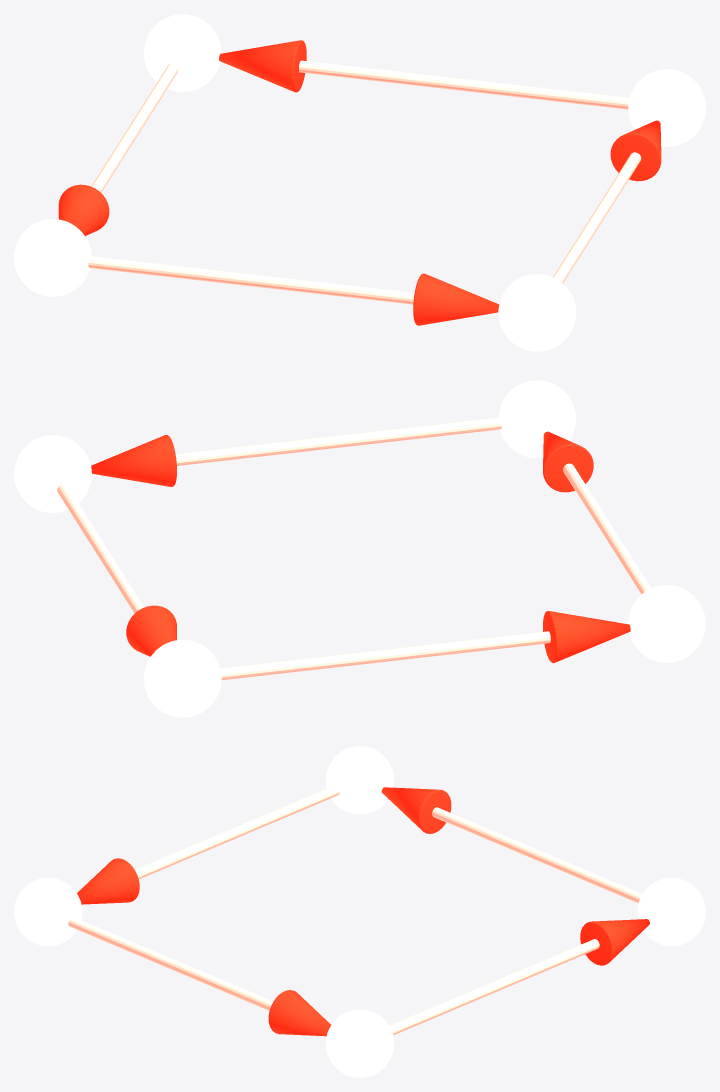
3 renders of one model, top to bottom at view 1: azimuth 30°, elevation 25°; view 2: azimuth 150°, elevation 25°; view 3: azimuth 270°, elevation 25°, orthographic. The views are drawn at different scales.
Parts seen in each view (by area): view 1: Sphere.0003, Sphere.0002, Sphere.0001, Sphere.0000, Gamma.0000, Gamma.0002, Alpha.0002, Alpha.0000, Alpha.0003, Alpha.0001, Gamma.0003, Gamma.0001; view 2: Sphere.0001, Sphere.0002, Sphere.0000, Sphere.0003, Gamma.0001, Gamma.0003, Alpha.0003, Alpha.0001, Alpha.0002, Alpha.0000, Gamma.0002, Gamma.0000; view 3: Sphere.0000, Sphere.0001, Sphere.0003, Sphere.0002, Gamma.0000, Gamma.0001, Gamma.0002, Gamma.0003, Alpha.0003, Alpha.0002, Alpha.0001, Alpha.0000.
Boxes of the visible parts, <box> form: Sphere.0003: <box>498,273,576,351</box>; Sphere.0002: <box>14,219,91,296</box>; Sphere.0001: <box>143,14,221,92</box>; Sphere.0000: <box>628,69,705,146</box>; Gamma.0000: <box>299,60,629,109</box>; Gamma.0002: <box>88,256,414,304</box>; Alpha.0002: <box>413,273,499,325</box>; Alpha.0000: <box>219,40,306,92</box>; Alpha.0003: <box>610,120,661,181</box>; Alpha.0001: <box>58,184,109,235</box>; Gamma.0003: <box>553,152,641,283</box>; Gamma.0001: <box>91,63,178,192</box>; Sphere.0001: <box>143,640,221,717</box>; Sphere.0002: <box>628,585,705,662</box>; Sphere.0000: <box>14,435,91,512</box>; Sphere.0003: <box>498,380,576,457</box>; Gamma.0001: <box>220,631,550,680</box>; Gamma.0003: <box>175,417,501,465</box>; Alpha.0003: <box>91,435,176,486</box>; Alpha.0001: <box>543,611,630,663</box>; Alpha.0002: <box>543,431,593,492</box>; Alpha.0000: <box>126,605,176,656</box>; Gamma.0002: <box>563,463,650,594</box>; Gamma.0000: <box>57,484,144,613</box>; Sphere.0000: <box>325,1009,394,1077</box>; Sphere.0001: <box>637,877,705,946</box>; Sphere.0003: <box>14,877,82,946</box>; Sphere.0002: <box>325,746,394,814</box>; Gamma.0000: <box>389,939,599,1035</box>; Gamma.0001: <box>432,807,642,903</box>; Gamma.0002: <box>135,785,339,879</box>; Gamma.0003: <box>68,917,273,1010</box>; Alpha.0003: <box>268,990,331,1036</box>; Alpha.0002: <box>77,858,139,904</box>; Alpha.0001: <box>381,787,451,833</box>; Alpha.0000: <box>580,919,649,965</box>.
Size of the model in its own units: 1.31 by 0.1296 by 1.31.
